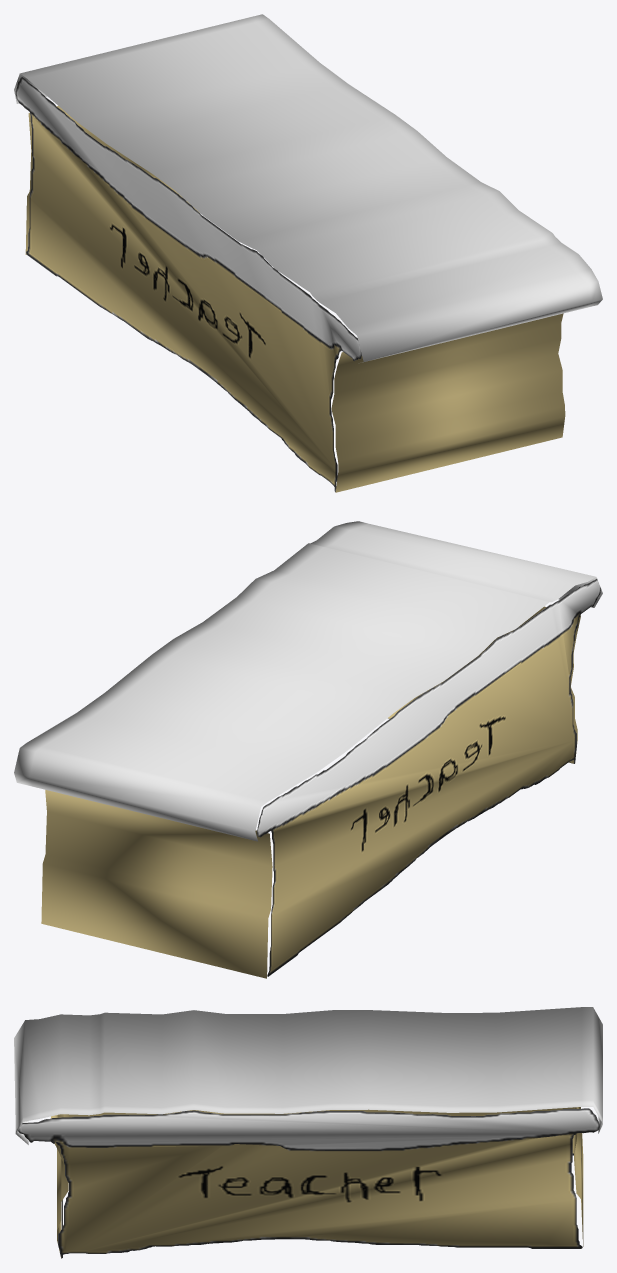
File: TeachersDesk.fbx
The picture shows the model from 3 angles, top to bottom: view 1: azimuth 30°, elevation 25°; view 2: azimuth 150°, elevation 25°; view 3: azimuth 270°, elevation 25°; orthographic projection. The views are drawn at different scales.
Parts seen in each view (by area): view 1: Cube; view 2: Cube; view 3: Cube.
Boxes of the visible parts, box(x1,y1,x2,y2) form: Cube: box(14, 14, 602, 492); Cube: box(14, 521, 602, 978); Cube: box(14, 1007, 602, 1258).
Bounding box in the file's own units: 124 × 91.82 × 309.
